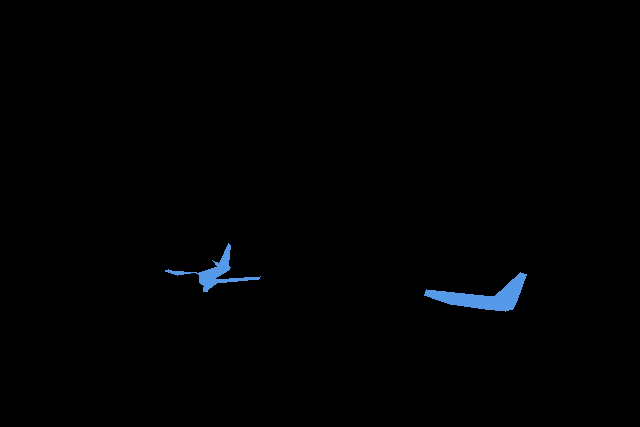Airplane: (165, 243, 261, 291), (424, 272, 526, 312)
